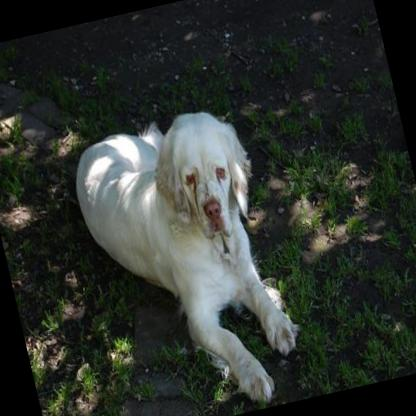clumber: (61, 96, 312, 416)
